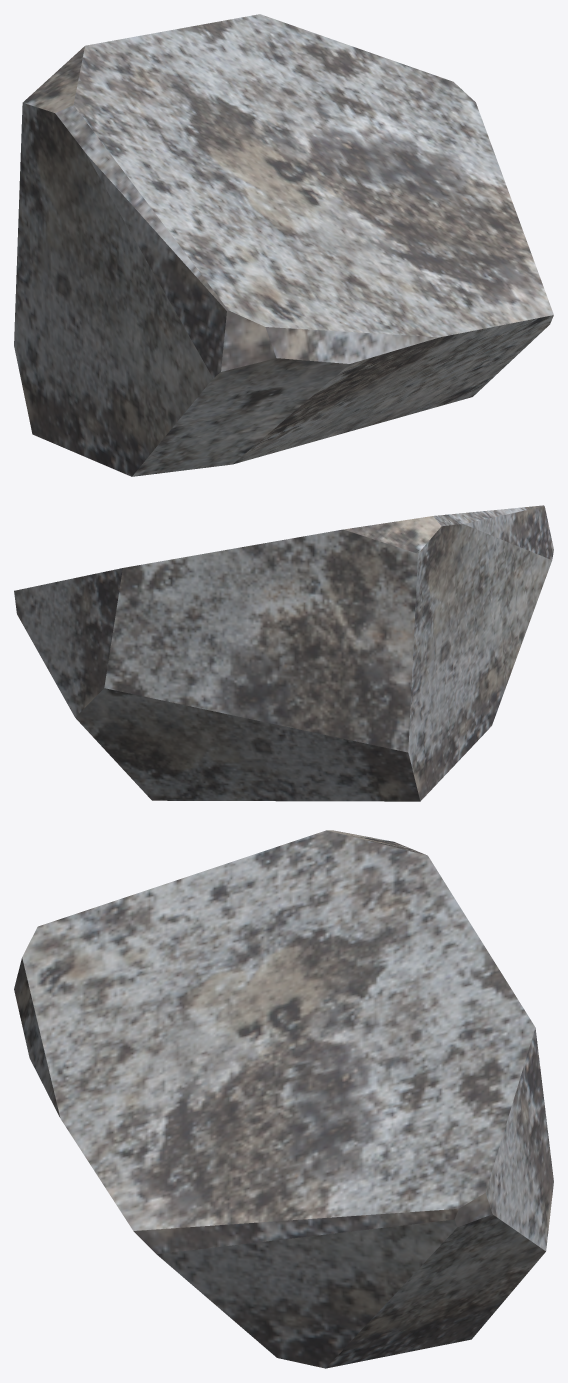
File: Asteroid_Large_001_02_001_03_013.fbx
3 renders of one model, top to bottom at view 1: azimuth 30°, elevation 25°; view 2: azimuth 150°, elevation 25°; view 3: azimuth 270°, elevation 25°, orthographic. The views are drawn at different scales.
Parts seen in each view (by area): view 1: Asteroid_Large_001_02_001_03_013; view 2: Asteroid_Large_001_02_001_03_013; view 3: Asteroid_Large_001_02_001_03_013.
Part boxes in pixels (x1,y1,x2,y2): Asteroid_Large_001_02_001_03_013: [14, 14, 553, 476]; Asteroid_Large_001_02_001_03_013: [14, 505, 553, 801]; Asteroid_Large_001_02_001_03_013: [14, 830, 553, 1368].
Bounding box in the file's own units: 8.92 × 6.85 × 8.88.
